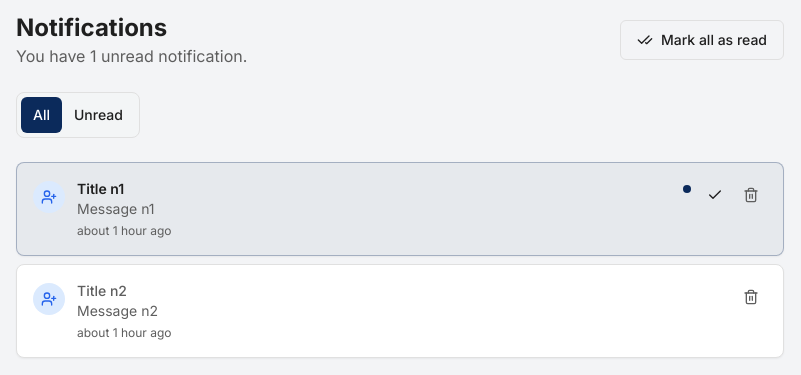
Test: Notifications page › filters to unread notifications
Check: the text "Title n1" is shown, box [77, 179, 182, 197]
Click the button "Unread": coordinates (98, 115) [62, 97, 135, 133]
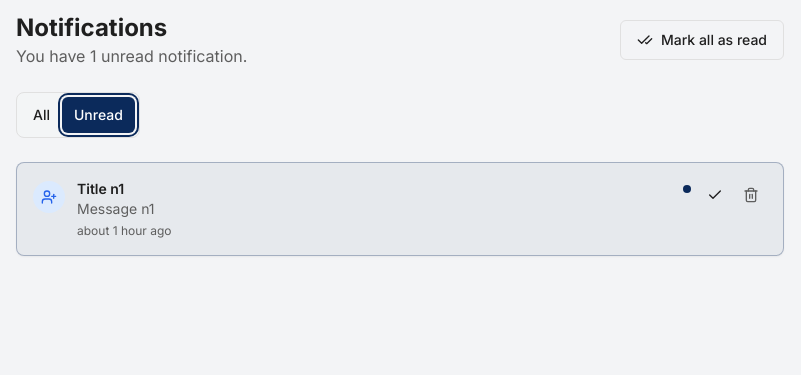
Check: the text "Title n1" is shown, box [77, 179, 182, 197]
Check: the button "Title n2" is gone
